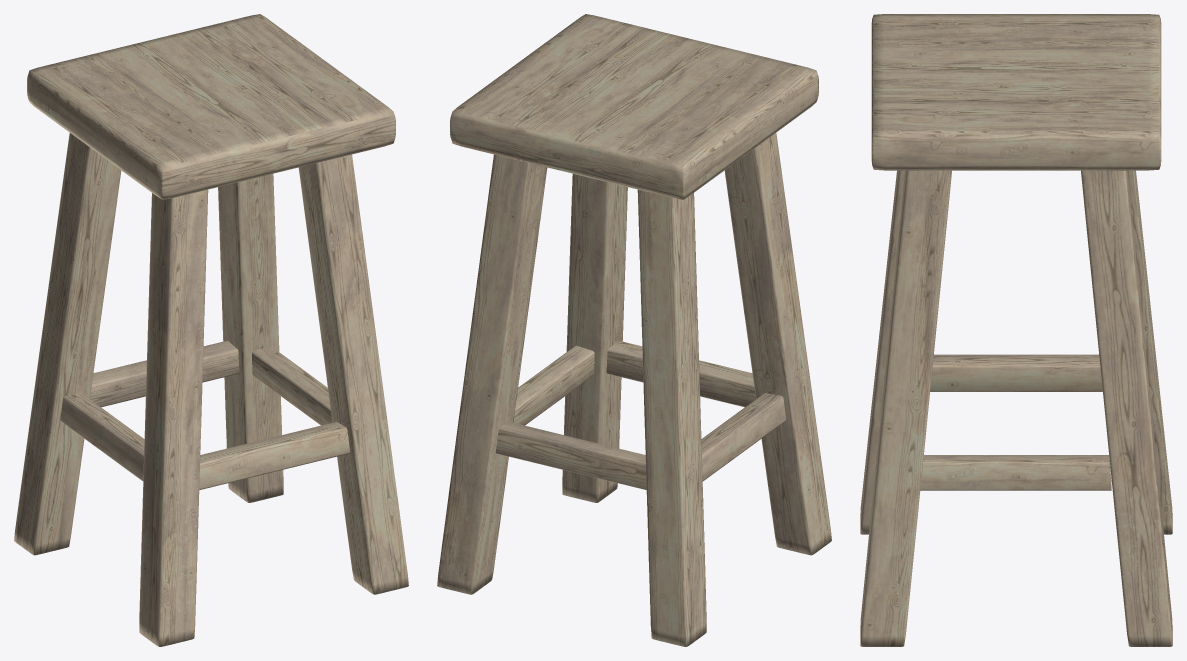
File: Chair21.fbx
3 renders of one model, left to right at view 1: azimuth 30°, elevation 25°; view 2: azimuth 150°, elevation 25°; view 3: azimuth 270°, elevation 25°, orthographic. The views are drawn at different scales.
Parts seen in each view (by area): view 1: Chair21; view 2: Chair21; view 3: Chair21.
Boxes of the visible parts, x1,y1,x2,y2 form: Chair21: (14, 14, 408, 646); Chair21: (437, 14, 831, 646); Chair21: (860, 14, 1172, 646).
Size of the model in its own units: 42.9 by 77.82 by 43.32.
